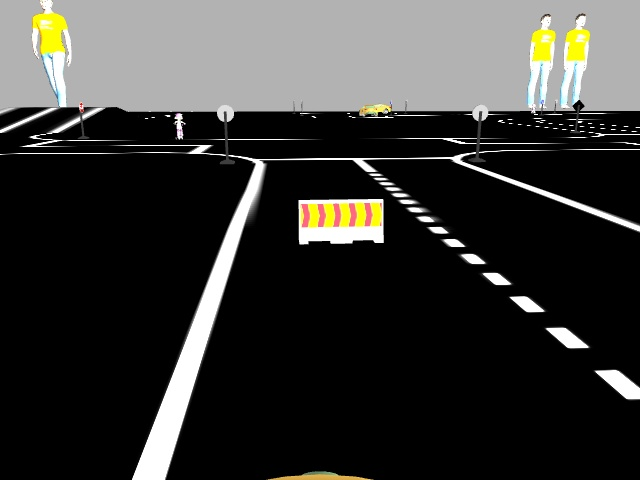ClosedRoadStand: (299, 199, 382, 242)
